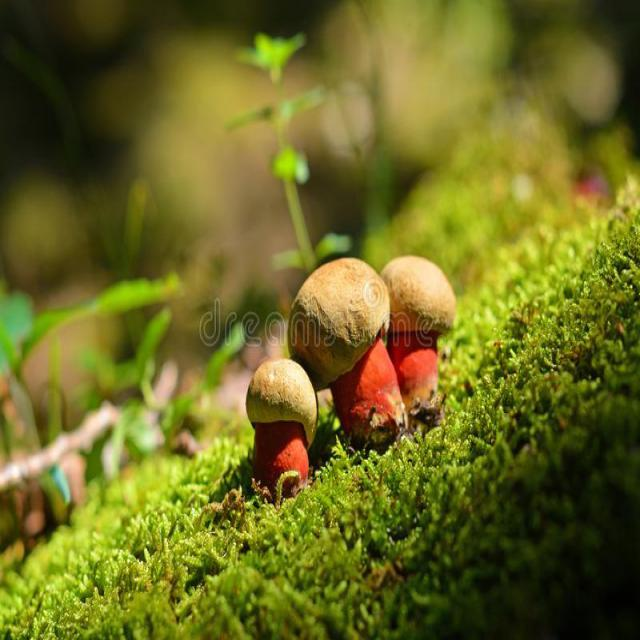Boletus: (293, 263, 406, 446), (383, 258, 458, 416), (251, 361, 316, 491)
